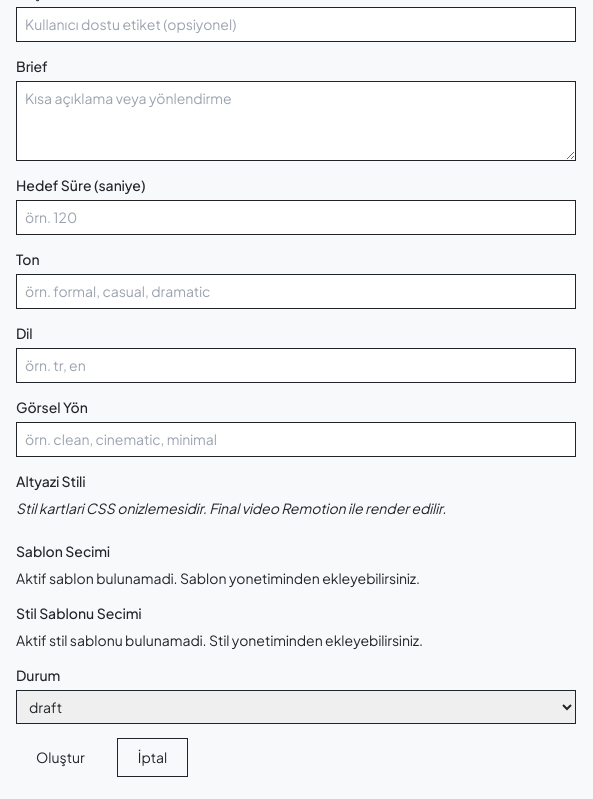
Test: Standard Video Form smoke tests › topic validation shows error when empty
(page scrolled)
Click the button "Oluştur" at (60, 758), box x1=16 y1=738 x2=105 y2=777
(page scrolled)
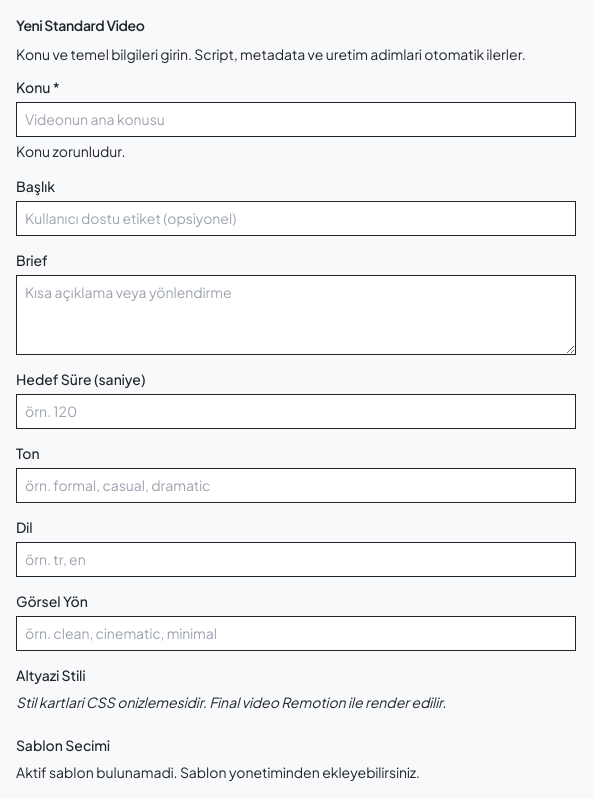
Expected: the text "Konu zorunludur." is shown, x1=16 y1=142 x2=126 y2=160
